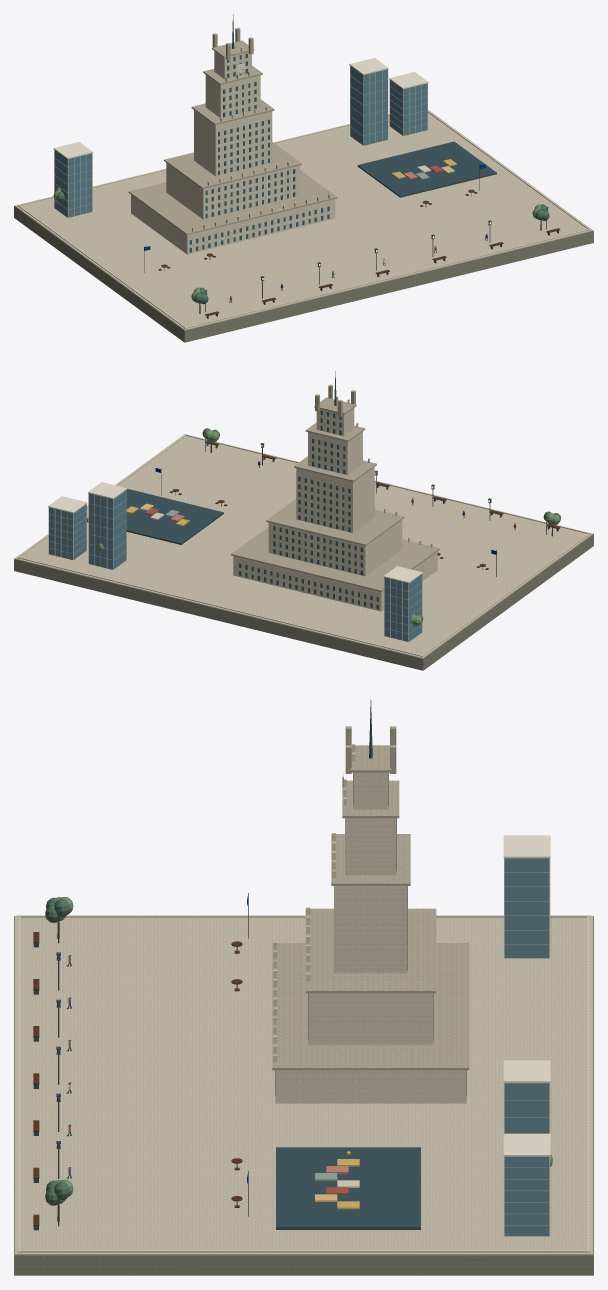
Rendered from varsovia-reference.glb.
3 renders of one model, top to bottom at view 1: azimuth 30°, elevation 25°; view 2: azimuth 150°, elevation 25°; view 3: azimuth 270°, elevation 25°, orthographic. The views are drawn at different scales.
Visible parts, largest first — view 1: varsovia_arquitetura_Calcada portuguesa, varsovia_arquitetura_Cantaria clara, varsovia_arquitetura_Corte de terreno, varsovia_arquitetura_Granito do cais, varsovia_arquitetura_Vidro institucional, varsovia_arquitetura_Ferro pintado da ponte, varsovia_arquitetura_Vidro das janelas, varsovia_arquitetura_Marfim pintado, varsovia_arquitetura_Aco polido, varsovia_arquitetura_Madeira de rabelo; view 2: varsovia_arquitetura_Calcada portuguesa, varsovia_arquitetura_Cantaria clara, varsovia_arquitetura_Corte de terreno, varsovia_arquitetura_Granito do cais, varsovia_arquitetura_Vidro institucional, varsovia_arquitetura_Ferro pintado da ponte, varsovia_arquitetura_Vidro das janelas, varsovia_arquitetura_Marfim pintado, varsovia_arquitetura_Aco polido, varsovia_arquitetura_Folhagem clara; view 3: varsovia_arquitetura_Calcada portuguesa, varsovia_arquitetura_Cantaria clara, varsovia_arquitetura_Granito do cais, varsovia_arquitetura_Corte de terreno, varsovia_arquitetura_Ferro pintado da ponte, varsovia_arquitetura_Vidro institucional, varsovia_arquitetura_Marfim pintado, varsovia_arquitetura_Aco polido, varsovia_arquitetura_Madeira de rabelo, varsovia_arquitetura_Folhagem.
Part boxes in pixels (bbox=[...]): varsovia_arquitetura_Calcada portuguesa: bbox=[15, 110, 592, 330]; varsovia_arquitetura_Cantaria clara: bbox=[17, 47, 590, 328]; varsovia_arquitetura_Corte de terreno: bbox=[14, 205, 593, 342]; varsovia_arquitetura_Granito do cais: bbox=[128, 27, 337, 234]; varsovia_arquitetura_Vidro institucional: bbox=[54, 66, 427, 217]; varsovia_arquitetura_Ferro pintado da ponte: bbox=[144, 14, 558, 318]; varsovia_arquitetura_Vidro das janelas: bbox=[189, 53, 329, 252]; varsovia_arquitetura_Marfim pintado: bbox=[53, 58, 428, 217]; varsovia_arquitetura_Aco polido: bbox=[54, 72, 427, 209]; varsovia_arquitetura_Madeira de rabelo: bbox=[158, 189, 560, 316]; varsovia_arquitetura_Calcada portuguesa: bbox=[15, 434, 592, 658]; varsovia_arquitetura_Cantaria clara: bbox=[17, 396, 590, 656]; varsovia_arquitetura_Corte de terreno: bbox=[14, 534, 593, 670]; varsovia_arquitetura_Granito do cais: bbox=[231, 384, 439, 591]; varsovia_arquitetura_Vidro institucional: bbox=[49, 490, 421, 641]; varsovia_arquitetura_Ferro pintado da ponte: bbox=[87, 371, 558, 576]; varsovia_arquitetura_Vidro das janelas: bbox=[239, 410, 378, 609]; varsovia_arquitetura_Marfim pintado: bbox=[48, 482, 422, 642]; varsovia_arquitetura_Aco polido: bbox=[49, 493, 422, 634]; varsovia_arquitetura_Folhagem clara: bbox=[97, 429, 560, 626]; varsovia_arquitetura_Calcada portuguesa: bbox=[15, 915, 592, 1254]; varsovia_arquitetura_Cantaria clara: bbox=[17, 744, 590, 1252]; varsovia_arquitetura_Granito do cais: bbox=[272, 726, 469, 1070]; varsovia_arquitetura_Corte de terreno: bbox=[14, 916, 593, 1275]; varsovia_arquitetura_Ferro pintado da ponte: bbox=[33, 699, 420, 1230]; varsovia_arquitetura_Vidro institucional: bbox=[504, 858, 549, 1236]; varsovia_arquitetura_Marfim pintado: bbox=[343, 773, 550, 1236]; varsovia_arquitetura_Aco polido: bbox=[504, 858, 549, 1226]; varsovia_arquitetura_Madeira de rabelo: bbox=[33, 921, 242, 1226]; varsovia_arquitetura_Folhagem: bbox=[45, 897, 70, 1205].
Size of the model in its own units: 72 by 36 by 52.
25 materials, 11 textured.
